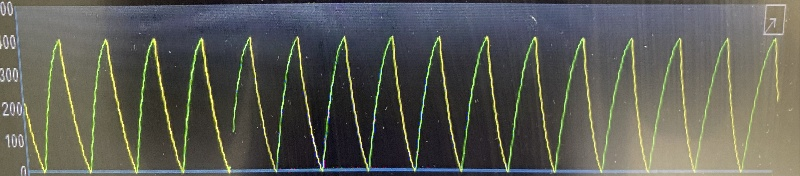normal_volume: (32, 29, 750, 176)
